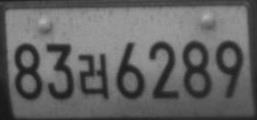2: (149, 40, 179, 99)
3: (45, 43, 74, 100)
6: (116, 41, 145, 100)
8: (181, 40, 212, 99), (13, 42, 42, 101)
9: (215, 39, 244, 98)
러: (78, 52, 110, 99)
